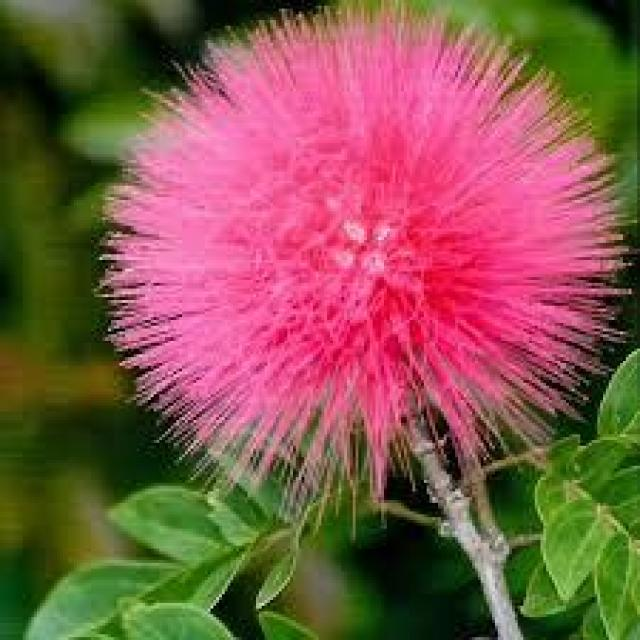organic waste: (105, 19, 617, 504)
